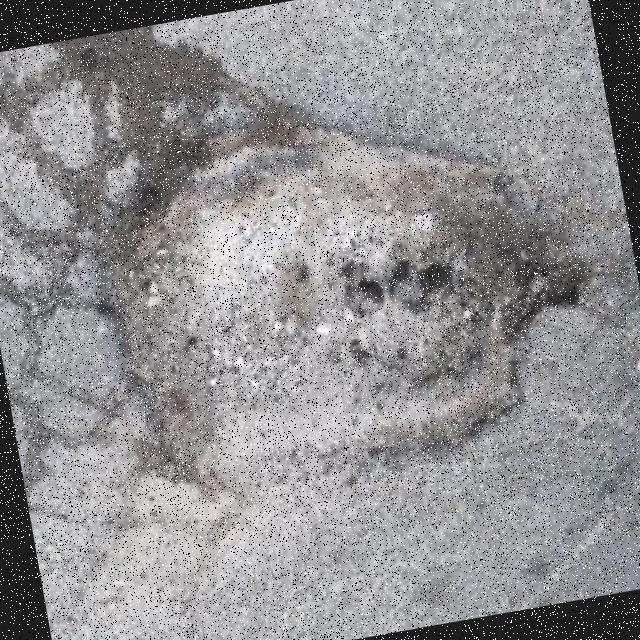Pothole: (97, 95, 631, 479)
